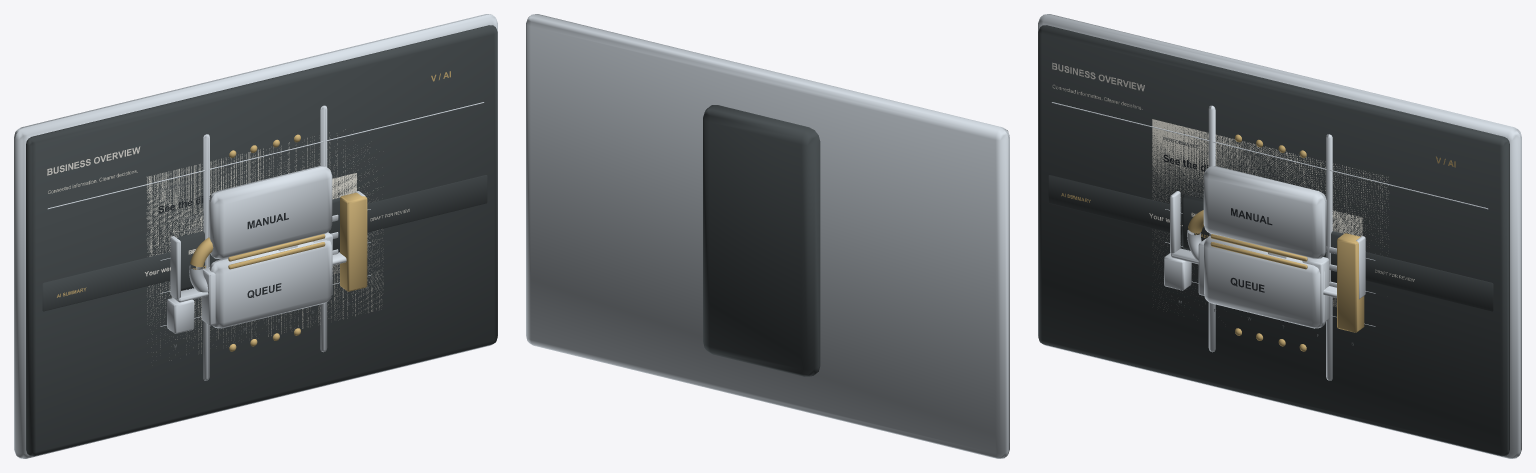
The model's file is ai-directions.glb.
The picture shows the model from 3 angles, left to right: view 1: azimuth 30°, elevation 25°; view 2: azimuth 150°, elevation 25°; view 3: azimuth 330°, elevation 25°; orthographic projection.
Visible parts, largest first — view 1: DashboardFrame_Geometry, RevenueChart_Geometry, GateTop_Geometry, GateBottom_Geometry, SummaryDock_Geometry, GateFrame_Geometry, TrayEnquiries_Geometry, EnquiryChart_Geometry; view 2: DashboardFrame_Geometry, GateFrame_Geometry; view 3: DashboardFrame_Geometry, RevenueChart_Geometry, GateTop_Geometry, GateBottom_Geometry, SummaryDock_Geometry, GateFrame_Geometry, TrayEnquiries_Geometry, EnquiryChart_Geometry.
Boxes of the visible parts, left/top/right/bottom form: DashboardFrame_Geometry: left=14, top=14, right=497, bottom=458; RevenueChart_Geometry: left=146, top=129, right=383, bottom=360; GateTop_Geometry: left=209, top=166, right=332, bottom=261; GateBottom_Geometry: left=209, top=240, right=331, bottom=328; SummaryDock_Geometry: left=42, top=175, right=487, bottom=311; GateFrame_Geometry: left=203, top=105, right=327, bottom=380; TrayEnquiries_Geometry: left=170, top=191, right=365, bottom=302; EnquiryChart_Geometry: left=173, top=173, right=356, bottom=292; DashboardFrame_Geometry: left=526, top=14, right=1009, bottom=458; GateFrame_Geometry: left=703, top=105, right=820, bottom=376; DashboardFrame_Geometry: left=1038, top=14, right=1521, bottom=458; RevenueChart_Geometry: left=1152, top=119, right=1388, bottom=345; GateTop_Geometry: left=1203, top=166, right=1326, bottom=261; GateBottom_Geometry: left=1204, top=236, right=1325, bottom=328; SummaryDock_Geometry: left=1048, top=175, right=1493, bottom=311; GateFrame_Geometry: left=1208, top=105, right=1332, bottom=380; TrayEnquiries_Geometry: left=1170, top=191, right=1365, bottom=298; EnquiryChart_Geometry: left=1187, top=178, right=1362, bottom=307.
Size of the model in its own units: 6.4 by 4.2 by 0.7875.
